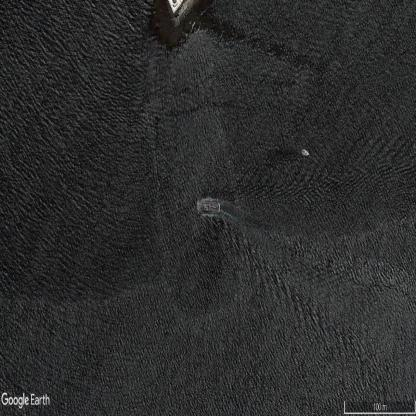ship: (198, 200, 220, 214), (302, 149, 309, 156)
